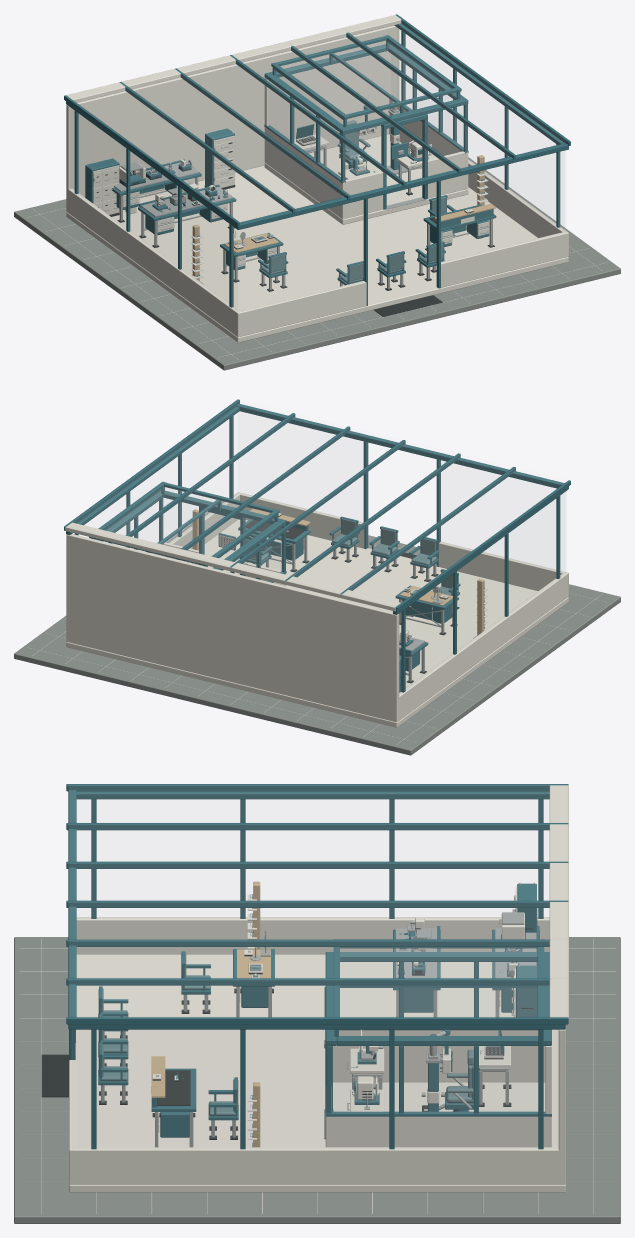
Rendered from optician-and-optical-lens-workshop-optic-6d824622-starter-scene__31716.glb.
3 views of the same model, one above another, from view 1: azimuth 30°, elevation 25°; view 2: azimuth 150°, elevation 25°; view 3: azimuth 270°, elevation 25° (orthographic). The views are drawn at different scales.
Visible parts, largest first — view 1: 001-optician-and-optical-lens-workshop-roofed-opticians-shop (×3), 002-optician-and-optical-lens-workshop-examination-room-shel (×3), 000-optician-and-optical-lens-workshop-optical-shop-floor-ba (×3), 019-optician-and-optical-lens-workshop-optical-workshop-benc (×2), 021-optician-and-optical-lens-workshop-repair-collection-cab (×2), 020-optician-and-optical-lens-workshop-lens-dispensing-cabin (×2), 018-optician-and-optical-lens-workshop-optical-workshop-benc (×2), 050-optician-and-optical-lens-workshop-appointment-reception, 042-optician-and-optical-lens-workshop-spectacle-fitting-des; view 2: 001-optician-and-optical-lens-workshop-roofed-opticians-shop (×3), 000-optician-and-optical-lens-workshop-optical-shop-floor-ba (×2), 002-optician-and-optical-lens-workshop-examination-room-shel (×2), 042-optician-and-optical-lens-workshop-spectacle-fitting-des, 050-optician-and-optical-lens-workshop-appointment-reception; view 3: 001-optician-and-optical-lens-workshop-roofed-opticians-shop (×3), 000-optician-and-optical-lens-workshop-optical-shop-floor-ba (×3), 002-optician-and-optical-lens-workshop-examination-room-shel (×3), 050-optician-and-optical-lens-workshop-appointment-reception (×2), 019-optician-and-optical-lens-workshop-optical-workshop-benc (×2), 042-optician-and-optical-lens-workshop-spectacle-fitting-des (×2), 020-optician-and-optical-lens-workshop-lens-dispensing-cabin, 003-optician-and-optical-lens-workshop-refraction-chair/2, 018-optician-and-optical-lens-workshop-optical-workshop-benc, 021-optician-and-optical-lens-workshop-repair-collection-cab, 008-optician-and-optical-lens-workshop-instrument-sliding-ta, 051-optician-and-optical-lens-workshop-waiting-chair/2 (+1 smaller).
Boxes of the visible parts, left/top/right/bottom form: 001-optician-and-optical-lens-workshop-roofed-opticians-shop (×3): left=64, top=14, right=570, bottom=342; 002-optician-and-optical-lens-workshop-examination-room-shel (×3): left=264, top=35, right=468, bottom=224; 000-optician-and-optical-lens-workshop-optical-shop-floor-ba (×3): left=14, top=157, right=620, bottom=370; 019-optician-and-optical-lens-workshop-optical-workshop-benc (×2): left=138, top=184, right=236, bottom=246; 021-optician-and-optical-lens-workshop-repair-collection-cab (×2): left=85, top=158, right=119, bottom=214; 020-optician-and-optical-lens-workshop-lens-dispensing-cabin (×2): left=205, top=129, right=234, bottom=187; 018-optician-and-optical-lens-workshop-optical-workshop-benc (×2): left=112, top=159, right=201, bottom=220; 050-optician-and-optical-lens-workshop-appointment-reception: left=423, top=204, right=496, bottom=246; 042-optician-and-optical-lens-workshop-spectacle-fitting-des: left=220, top=232, right=283, bottom=269; 001-optician-and-optical-lens-workshop-roofed-opticians-shop (×3): left=64, top=399, right=570, bottom=727; 000-optician-and-optical-lens-workshop-optical-shop-floor-ba (×2): left=14, top=501, right=620, bottom=755; 002-optician-and-optical-lens-workshop-examination-room-shel (×2): left=89, top=481, right=286, bottom=582; 042-optician-and-optical-lens-workshop-spectacle-fitting-des: left=395, top=585, right=458, bottom=623; 050-optician-and-optical-lens-workshop-appointment-reception: left=238, top=519, right=310, bottom=560; 001-optician-and-optical-lens-workshop-roofed-opticians-shop (×3): left=66, top=784, right=568, bottom=1192; 000-optician-and-optical-lens-workshop-optical-shop-floor-ba (×3): left=14, top=937, right=620, bottom=1223; 002-optician-and-optical-lens-workshop-examination-room-shel (×3): left=324, top=939, right=551, bottom=1147; 050-optician-and-optical-lens-workshop-appointment-reception (×2): left=151, top=1068, right=196, bottom=1137; 019-optician-and-optical-lens-workshop-optical-workshop-benc (×2): left=393, top=926, right=440, bottom=1017; 042-optician-and-optical-lens-workshop-spectacle-fitting-des (×2): left=233, top=949, right=274, bottom=1007; 020-optician-and-optical-lens-workshop-lens-dispensing-cabin: left=516, top=965, right=537, bottom=1017; 003-optician-and-optical-lens-workshop-refraction-chair/2: left=446, top=1049, right=473, bottom=1103; 018-optician-and-optical-lens-workshop-optical-workshop-benc: left=495, top=928, right=536, bottom=1017; 021-optician-and-optical-lens-workshop-repair-collection-cab: left=517, top=883, right=536, bottom=932; 008-optician-and-optical-lens-workshop-instrument-sliding-ta: left=350, top=1048, right=384, bottom=1073; 051-optician-and-optical-lens-workshop-waiting-chair/2: left=208, top=1077, right=238, bottom=1120.
Bounding box in the file's own units: 12 × 3.68 × 11.
